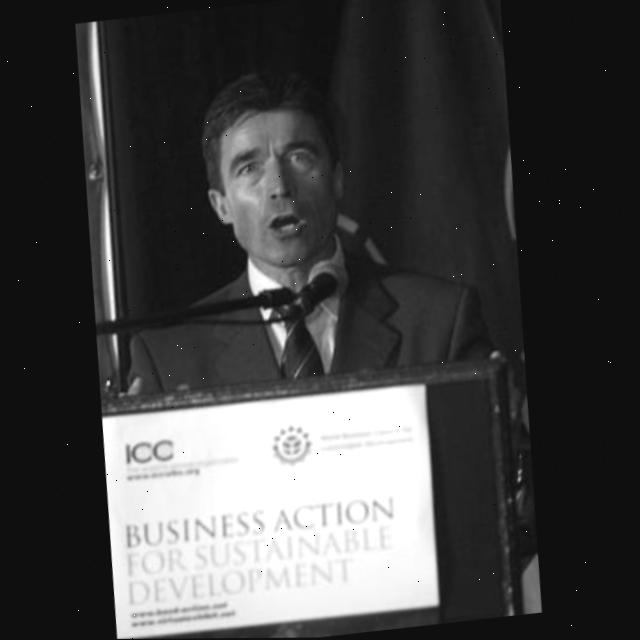face: (186, 71, 365, 285)
